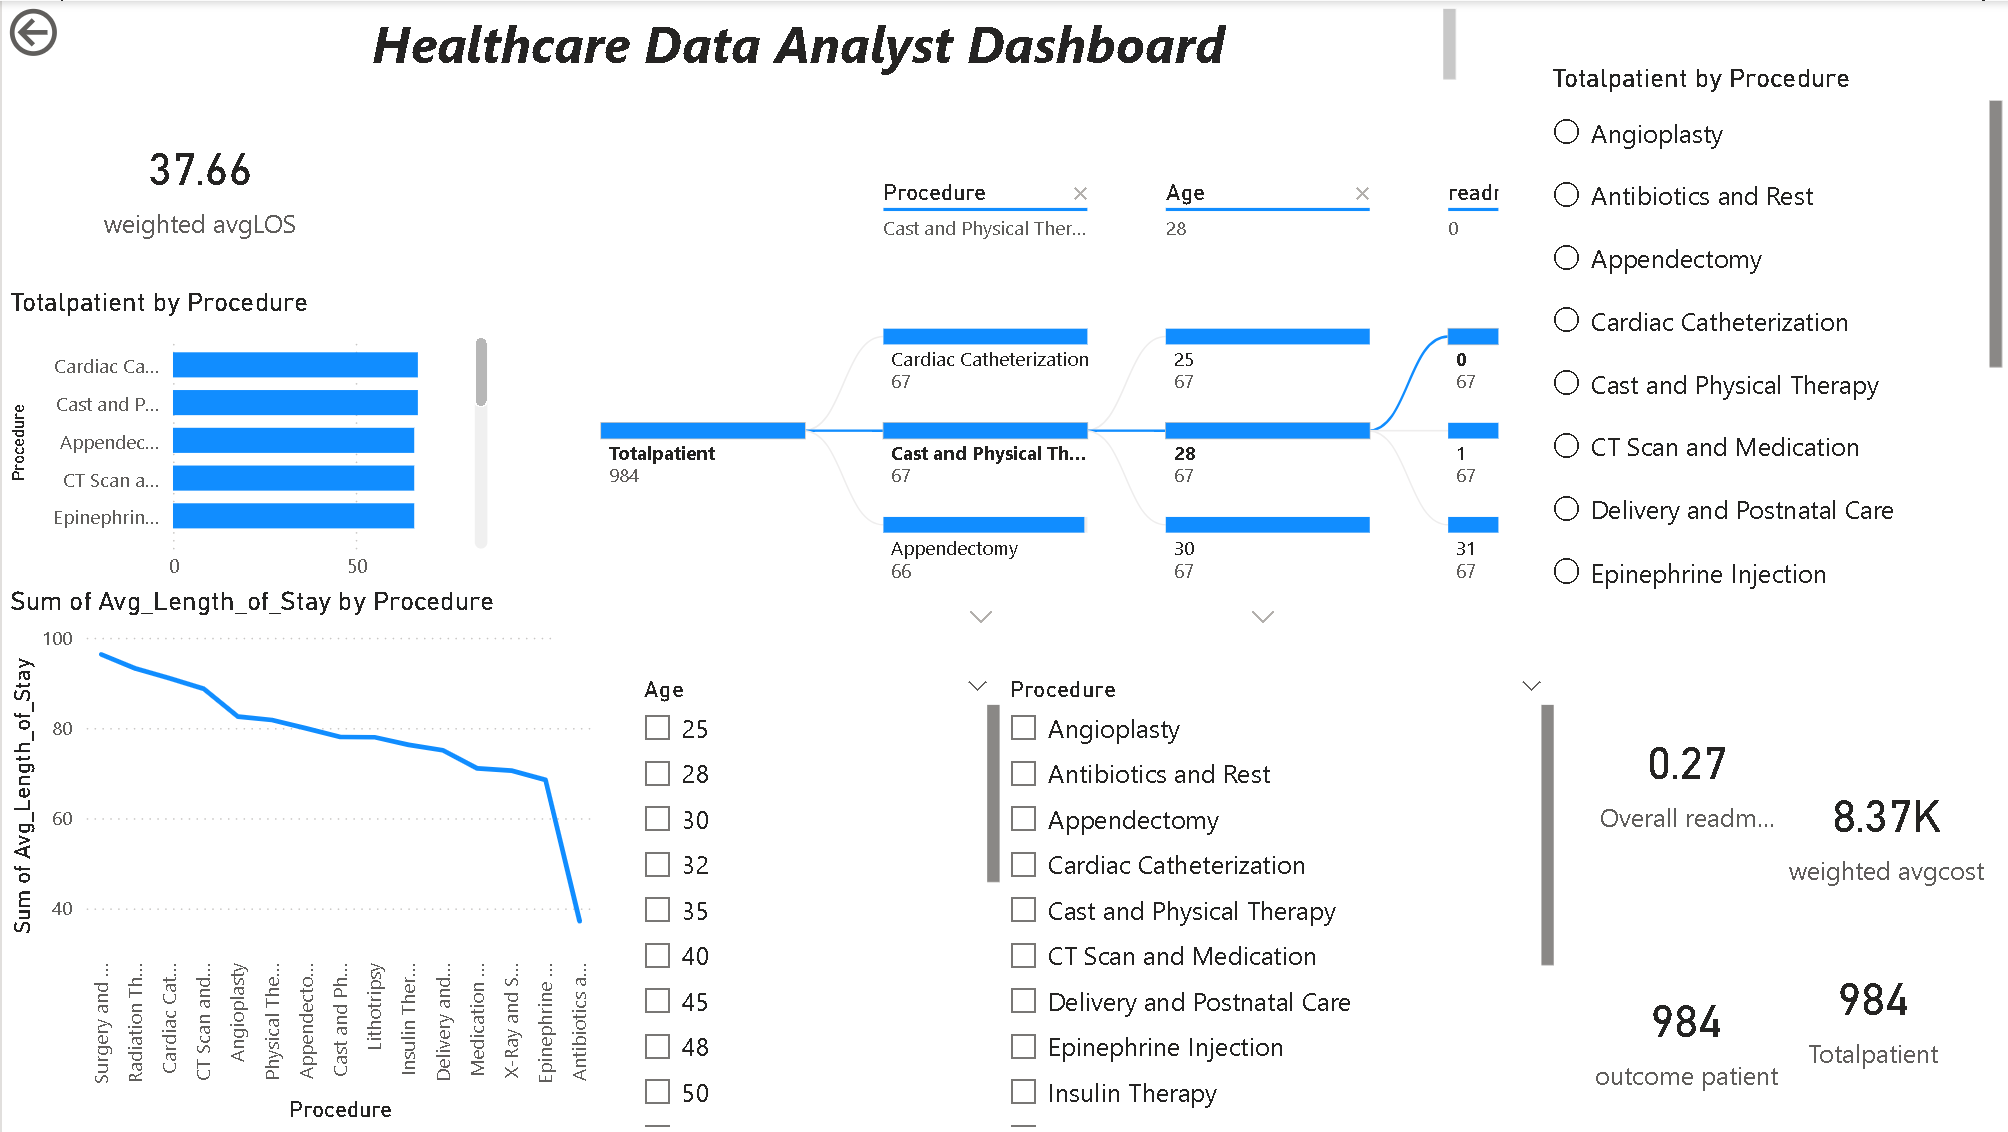

What the dashboard file says about the page in this screenshot:
{"tool":"powerbi","page":{"name":"Page 1","canvas":[1280,720],"ordinal":0},"visuals":[{"type":"clusteredBarChart","fields":{"Category":["Procedure_summary.Procedure"],"Y":["Procedure_outcomes.Totalpatient"]},"box":[0,182.3,314.4,204.7],"z":0},{"type":"lineChart","fields":{"Category":["Procedure_summary.Procedure"],"Y":["Sum(Procedure_summary.Avg_Length_of_Stay)"]},"box":[0,372.3,381.9,346.8],"z":1},{"type":"slicer","fields":{"Values":["Procedure_summary.Procedure"]},"box":[629.6,425.1,364.3,297.2],"z":2},{"type":"slicer","fields":{"Values":["Procedure_outcomes.Age"]},"box":[396.3,425.1,244.5,297.2],"z":3},{"type":"actionButton","box":[0,0,100,40],"z":4},{"type":"card","fields":{"Values":["Procedure_outcomes.weighted avgcost"]},"box":[1123.4,452.2,156.6,151.8],"z":6},{"type":"card","fields":{"Values":["Procedure_outcomes.Totalpatient"]},"box":[1105.8,570.5,174.2,150.2],"z":7},{"type":"card","fields":{"Values":["Procedure_outcomes.weighted avgLOS"]},"box":[0,62.3,252.5,108.7],"z":8},{"type":"card","fields":{"Values":["Procedure_outcomes.Overall readmission rate"]},"box":[1013.1,444.2,121.4,102.3],"z":9},{"type":"card","fields":{"Values":["Procedure_outcomes.outcome patient"]},"box":[1003.5,599.3,140.6,119.9],"z":10},{"type":"listSlicer","fields":{"Values":["Procedure_summary.Procedure"]},"box":[982.8,40,297.2,350],"z":12},{"type":"decompositionTreeVisual","fields":{"Analyze":["Procedure_outcomes.Totalpatient"],"ExplainBy":["Procedure_summary.Procedure","Procedure_outcomes.Age","Procedure_readmission.readmission_patients","Procedure_outcomes.Outcome"]},"box":[351.6,97.5,607.2,313.2],"z":13},{"type":"textbox","box":[100.7,0,831,62.3],"z":14}]}

Visuals, with their boxes on the page's 1280x720 design canvas (x1, y1, x2, y2). These are canvas units, not pixel positions in the 2008x1132 screenshot, which may show the page scaled, cropped or inside an application window:
clusteredBarChart - Procedure_summary.Procedure x Procedure_outcomes.Totalpatient: <box>0,182,314,387</box>
lineChart - Procedure_summary.Procedure x Sum(Procedure_summary.Avg_Length_of_Stay): <box>0,372,382,719</box>
slicer - Procedure_summary.Procedure: <box>630,425,994,722</box>
slicer - Procedure_outcomes.Age: <box>396,425,641,722</box>
actionButton: <box>0,0,100,40</box>
card - Procedure_outcomes.weighted avgcost: <box>1123,452,1280,604</box>
card - Procedure_outcomes.Totalpatient: <box>1106,570,1280,721</box>
card - Procedure_outcomes.weighted avgLOS: <box>0,62,252,171</box>
card - Procedure_outcomes.Overall readmission rate: <box>1013,444,1134,546</box>
card - Procedure_outcomes.outcome patient: <box>1004,599,1144,719</box>
listSlicer - Procedure_summary.Procedure: <box>983,40,1280,390</box>
decompositionTreeVisual - Procedure_outcomes.Totalpatient x Procedure_summary.Procedure: <box>352,98,959,411</box>
textbox: <box>101,0,932,62</box>
